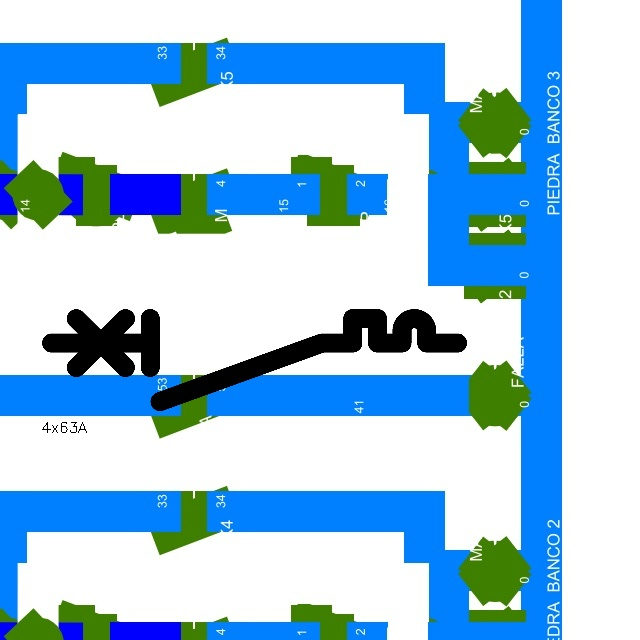interruptor_termomagnetico: (41, 308, 468, 412)
